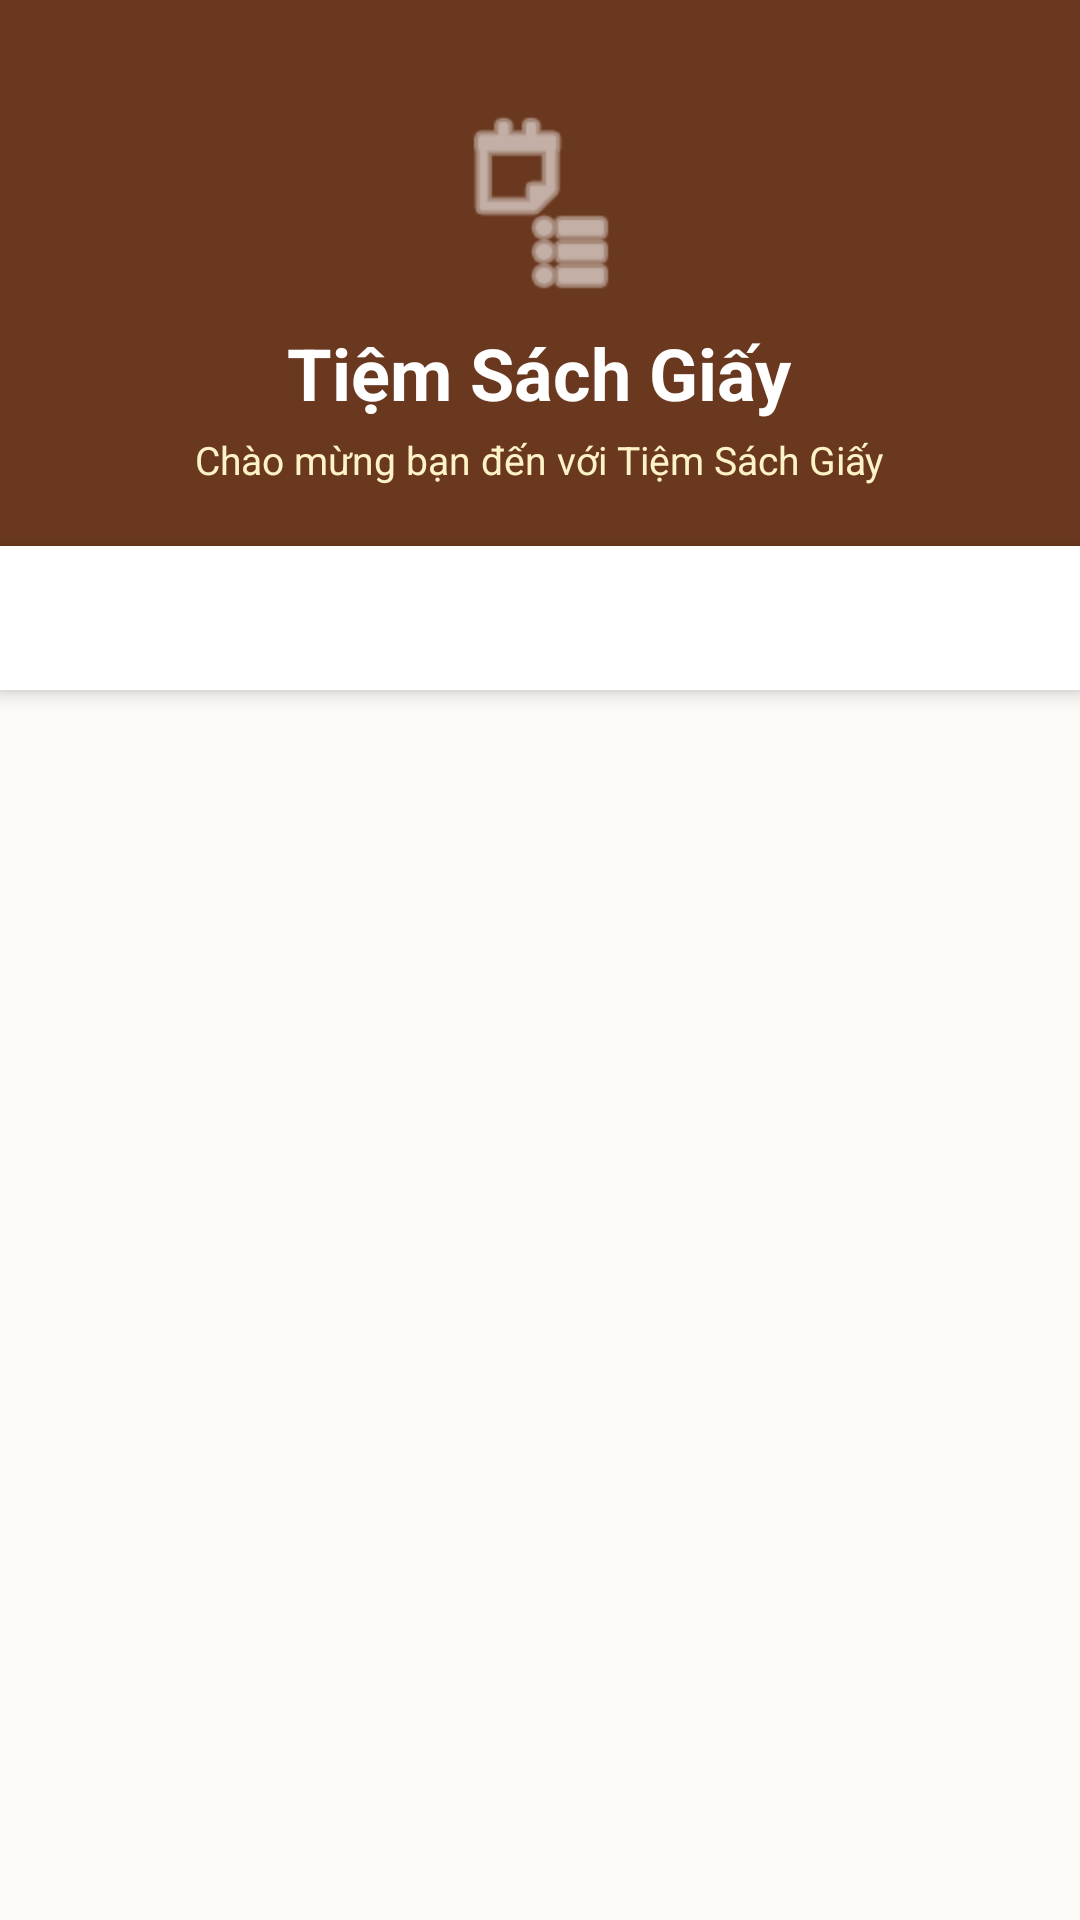

Where to tap for icons on this 1080 x 1920 app screen, as (x,y):
agenda: (541,202)
